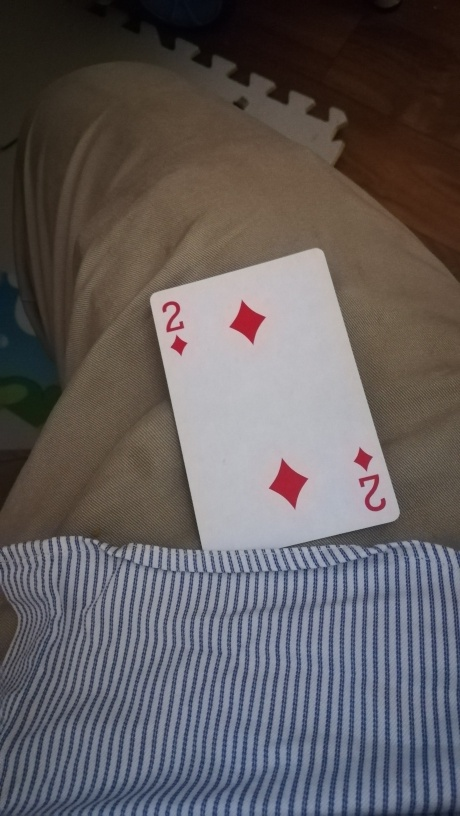fk 2: (150, 246, 400, 555)
